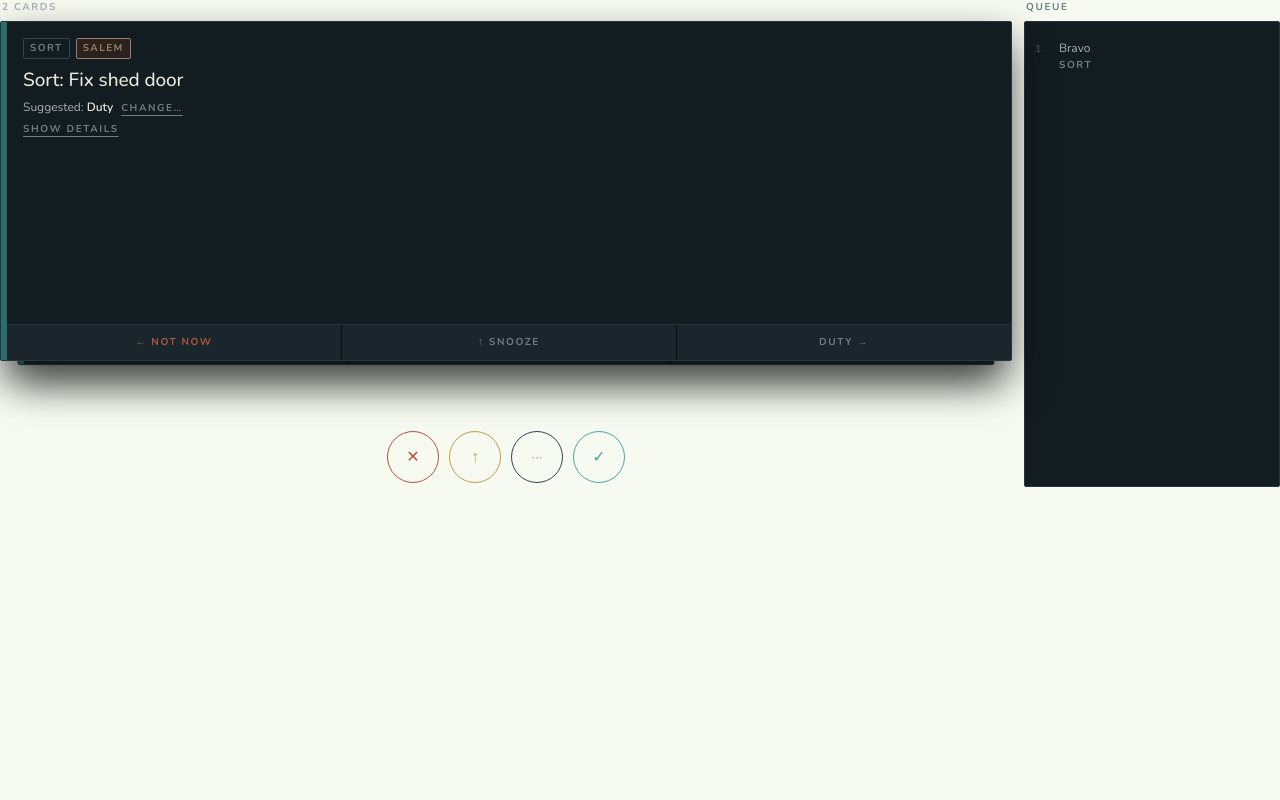
Test: the affirm hold-selector › ONE INTERACTION — a pick commits that verb with no confirm stage between
Press the mouse on the element with test id "deck-card" at (506, 191), box [0,21,1012,361]
Wait 450 ms
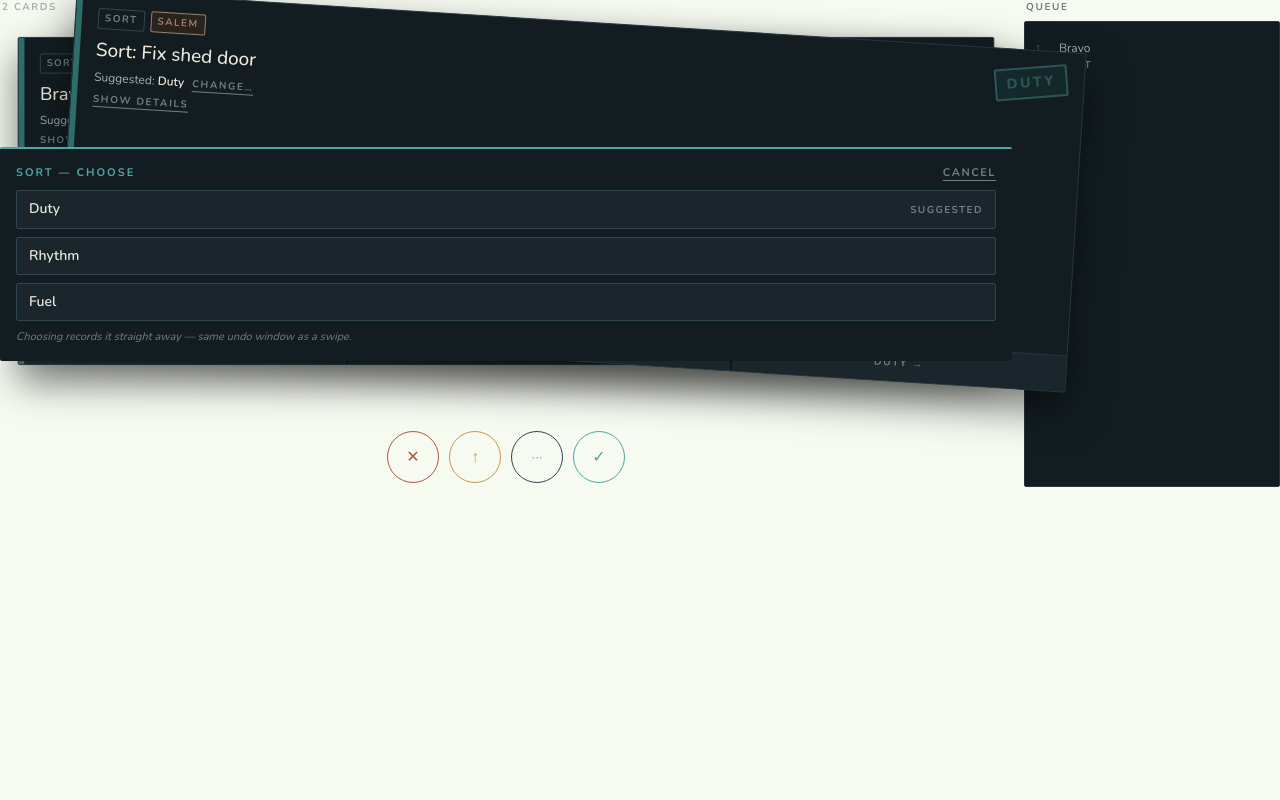
Click the button with test id "deck-hold-choice-sort_fuel".
click(43, 301)  # box [16,282,996,320]
Wait 6001 ms
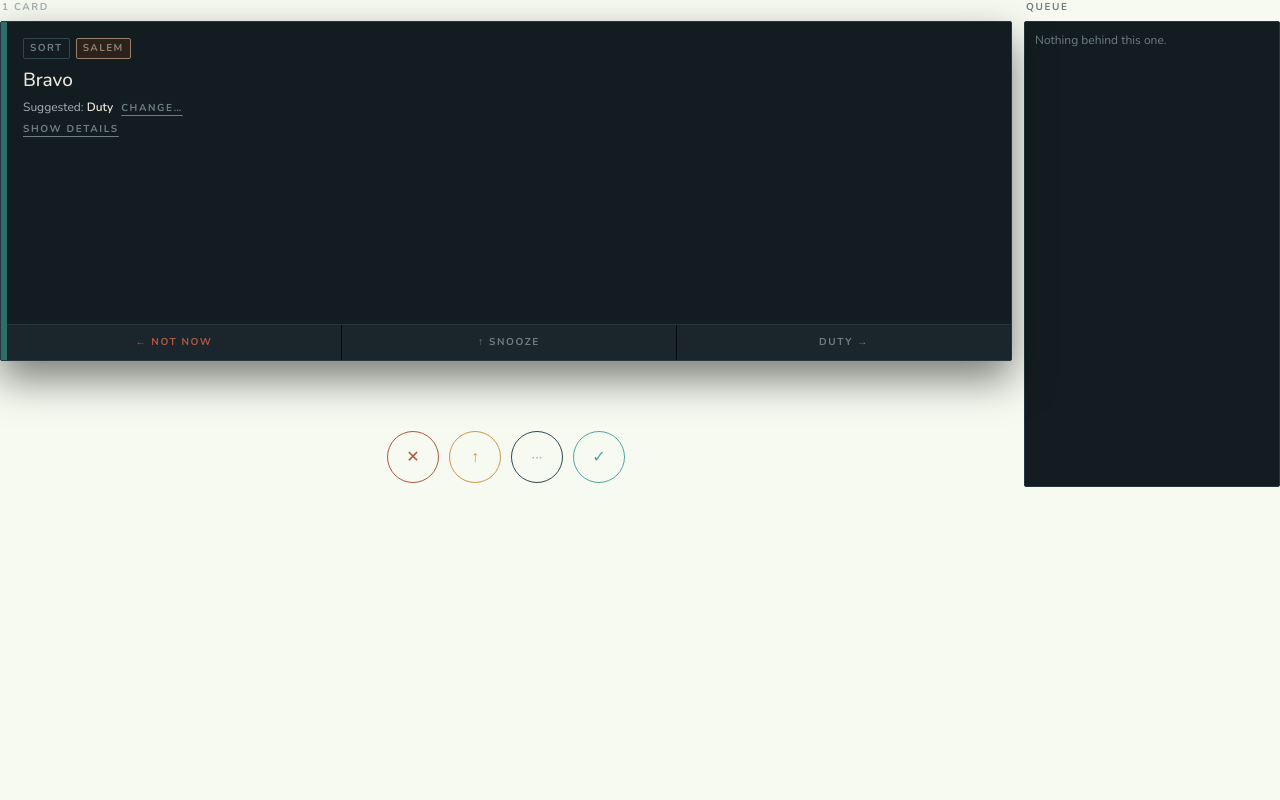
Now the text with test id "deck-count" reads "1 card", box [2,0,49,14]
